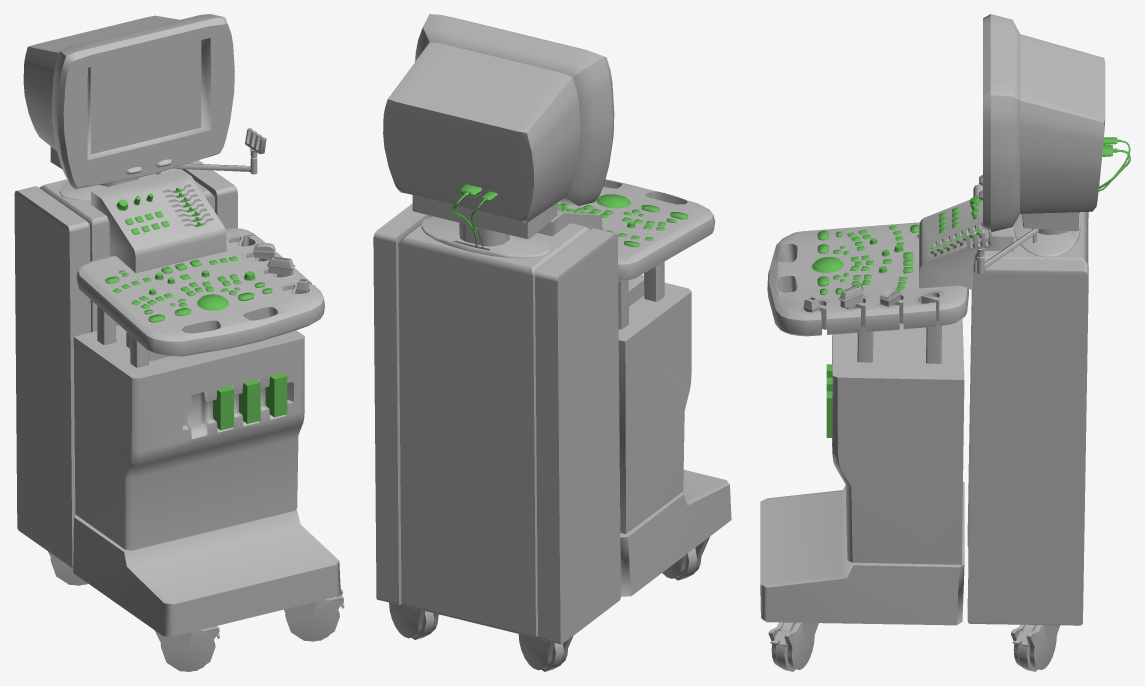
The model's file is SM_UltrasoundMachine_01b.FBX.
3 views of the same model, side by side, from view 1: azimuth 30°, elevation 25°; view 2: azimuth 150°, elevation 25°; view 3: azimuth 270°, elevation 25° (orthographic). The views are drawn at different scales.
Parts seen in each view (by area): view 1: SM_UltrasoundMachine_01b_LOD0; view 2: SM_UltrasoundMachine_01b_LOD0; view 3: SM_UltrasoundMachine_01b_LOD0.
Boxes of the visible parts, box(x1,y1,x2,y2) form: SM_UltrasoundMachine_01b_LOD0: box(14, 14, 344, 671); SM_UltrasoundMachine_01b_LOD0: box(373, 14, 731, 671); SM_UltrasoundMachine_01b_LOD0: box(760, 14, 1130, 671).
Size of what is drawn, in the model's own units: 56.54 by 150 by 87.15.
